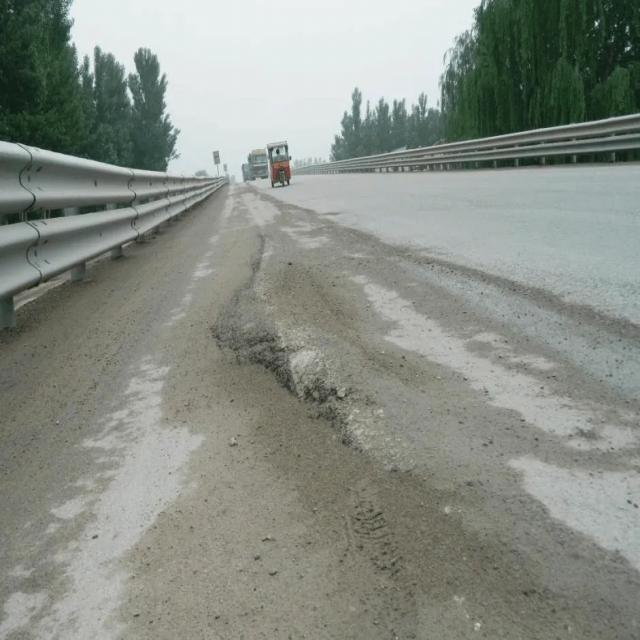Pothole: (210, 235, 370, 446)
